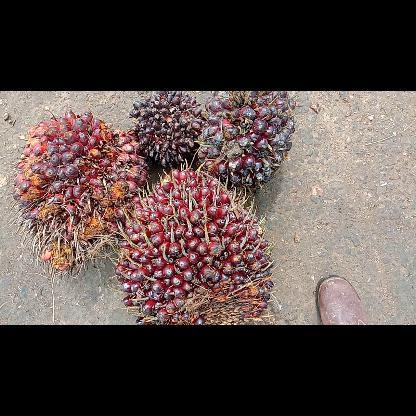Kurang masak: (110, 168, 276, 324), (197, 90, 296, 192)
TBS abnormal: (128, 92, 208, 172)
TBS masak: (12, 107, 150, 275)
